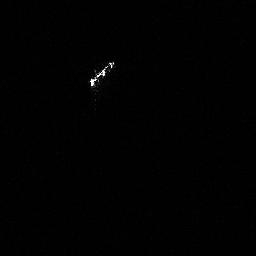ship: (85, 57, 117, 90)
